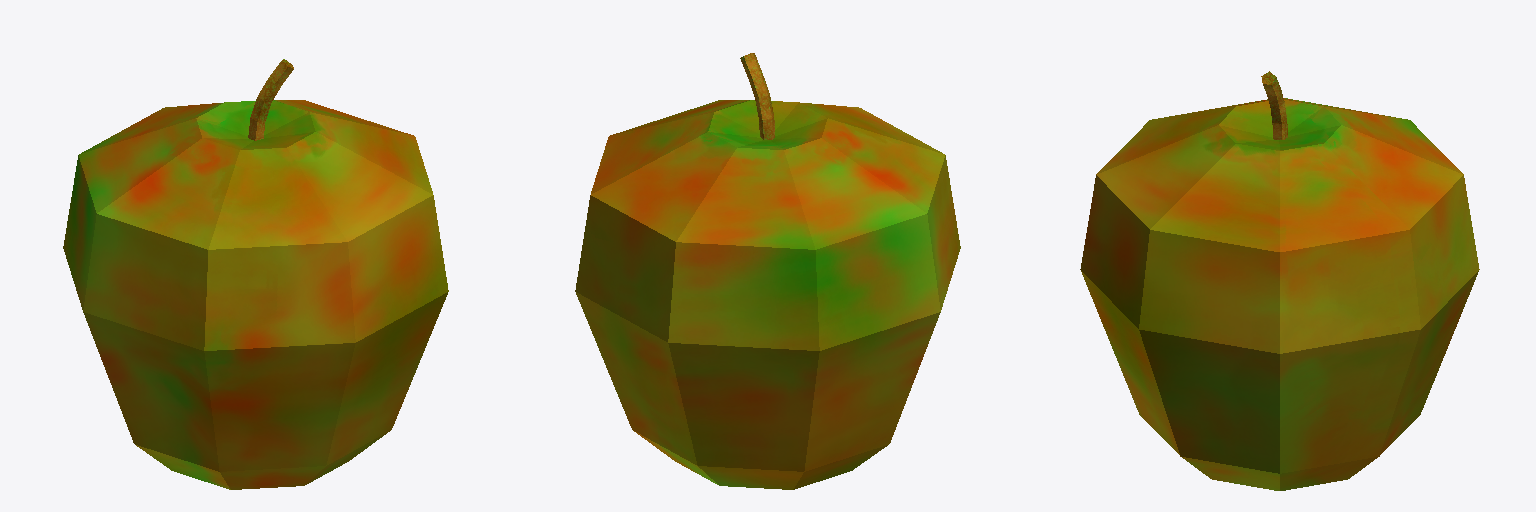
The picture shows the model from 3 angles: view 1: azimuth 30°, elevation 25°; view 2: azimuth 150°, elevation 25°; view 3: azimuth 270°, elevation 25°; orthographic projection.
Parts seen in each view (by area): view 1: LoResApple; view 2: LoResApple; view 3: LoResApple.
Boxes of the visible parts, x1,y1,x2,y2 form: LoResApple: [63, 59, 448, 489]; LoResApple: [575, 53, 960, 489]; LoResApple: [1080, 71, 1479, 490].
Size of the model in its own units: 1 by 1.08 by 1.
Materials: 1 (1 with a texture image).